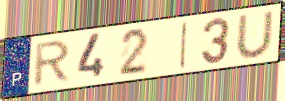2: (117, 27, 150, 78)
3: (198, 16, 230, 66)
4: (76, 30, 110, 83)
I: (178, 19, 190, 71)
R: (31, 38, 74, 89)
U: (234, 9, 276, 60)
